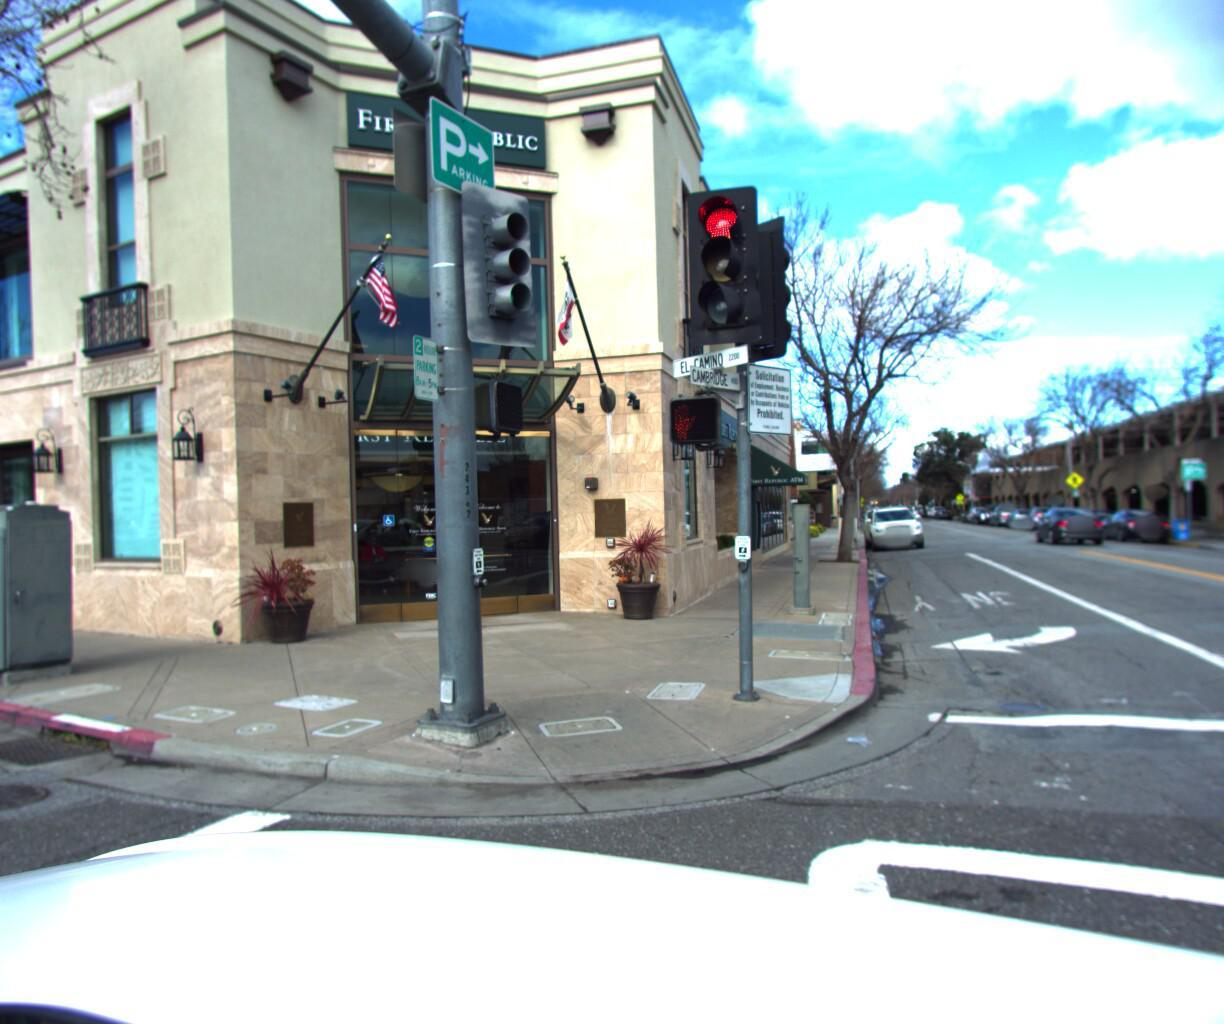car: (1029, 509, 1106, 552), (1096, 511, 1176, 550), (870, 508, 926, 559), (1063, 513, 1123, 545), (1022, 513, 1064, 537), (999, 513, 1035, 534), (991, 511, 1023, 531)
